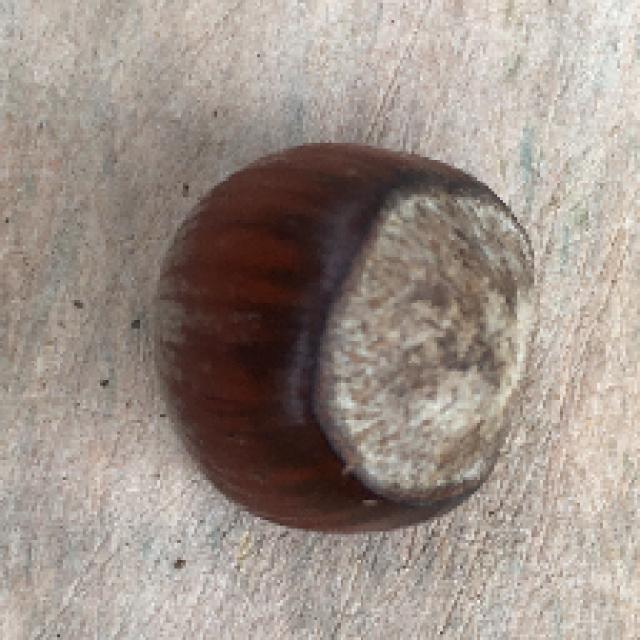qualityHazelnut: (149, 139, 538, 535)
